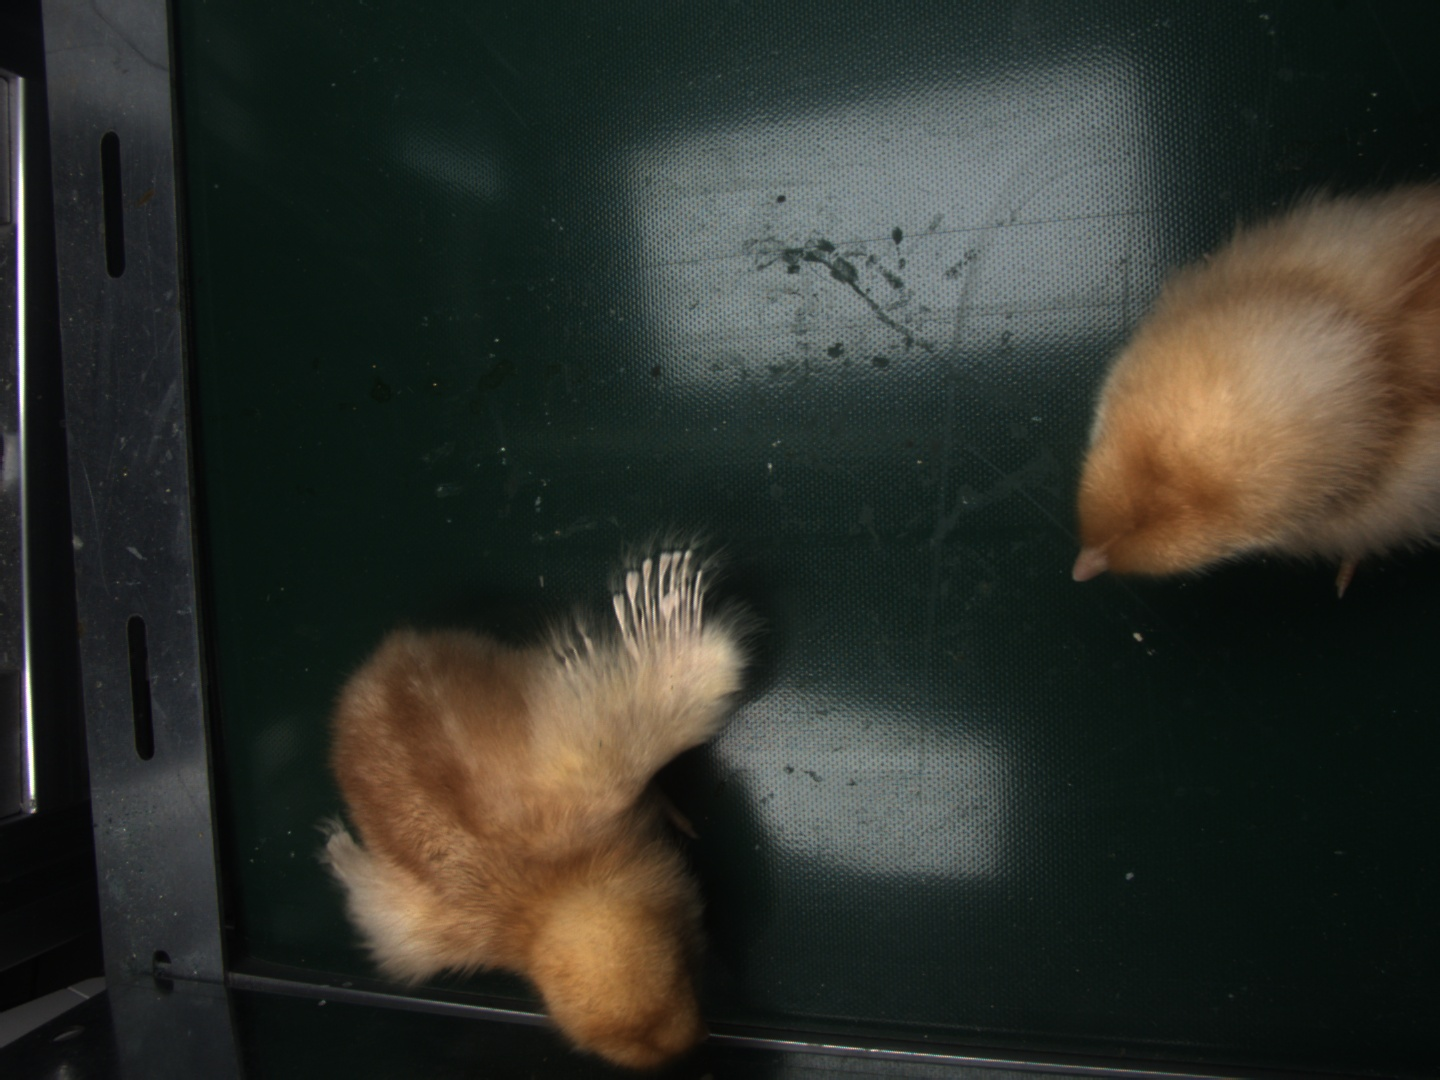female: (615, 547, 708, 636)
